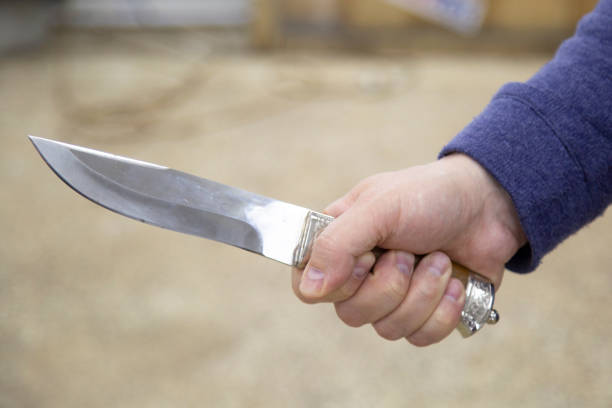knife: (23, 134, 500, 341)
